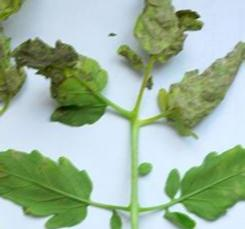Tomato mold leaf: (12, 33, 109, 128), (155, 39, 245, 139), (0, 147, 96, 229), (174, 140, 245, 217), (125, 0, 185, 62)
